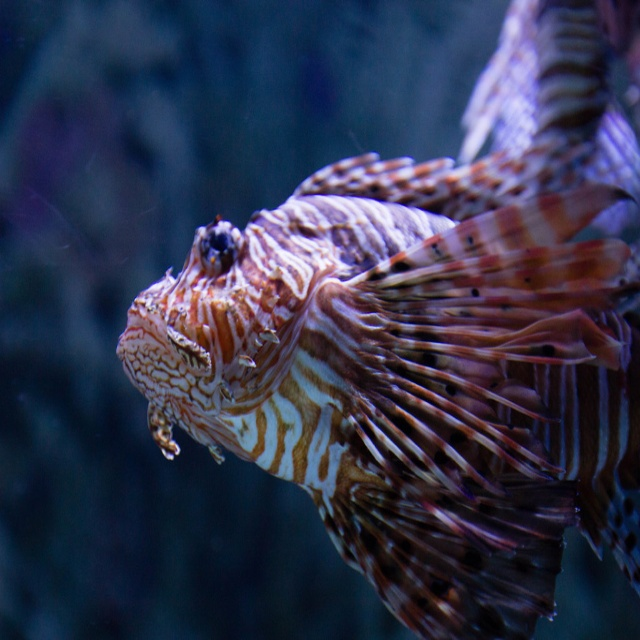Fish: (116, 0, 640, 640)
